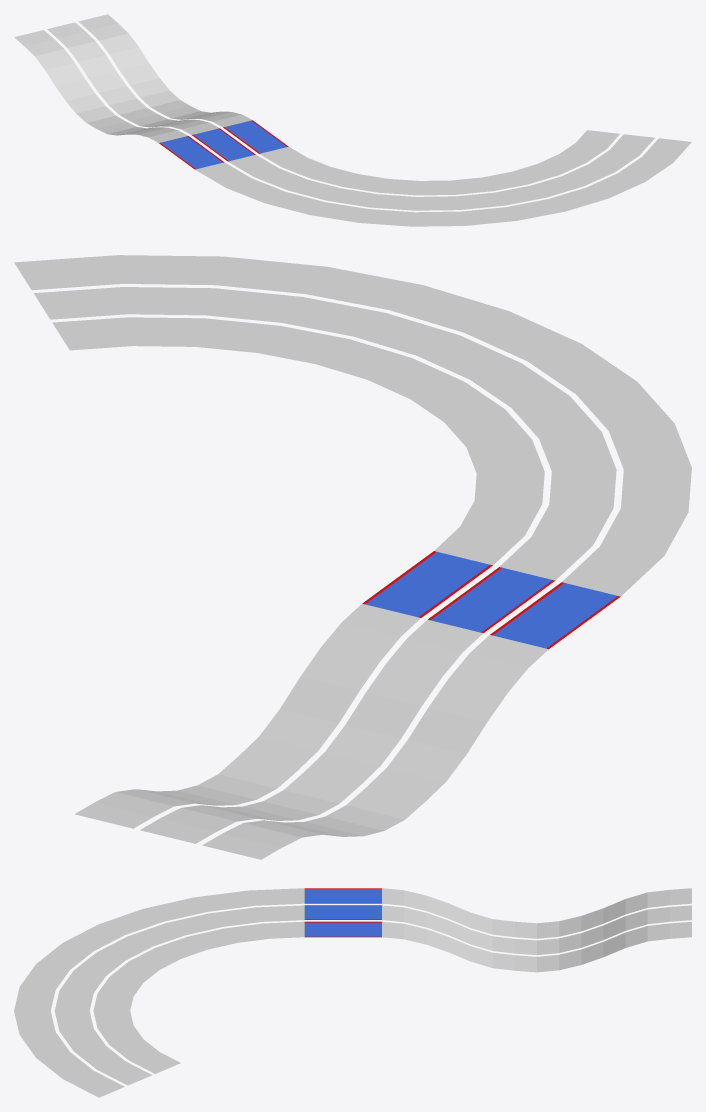
The model's file is Road_straight.fbx.
The picture shows the model from 3 angles, top to bottom: view 1: azimuth 30°, elevation 25°; view 2: azimuth 150°, elevation 25°; view 3: azimuth 270°, elevation 25°; orthographic projection. The views are drawn at different scales.
Parts seen in each view (by area): view 1: Road_90, Road_plus2, Road_45, Road_minus2, Road_straight; view 2: Road_90, Road_minus2, Road_45, Road_plus2, Road_straight; view 3: Road_90, Road_45, Road_minus2, Road_plus2, Road_straight.
Part boxes in pixels (left/top/right/bottom): Road_90: left=195, top=146, right=564, bottom=226; Road_plus2: left=14, top=14, right=179, bottom=122; Road_45: left=511, top=130, right=691, bottom=211; Road_minus2: left=87, top=100, right=252, bottom=142; Road_straight: left=159, top=120, right=288, bottom=169; Road_90: left=316, top=285, right=691, bottom=596; Road_minus2: left=218, top=603, right=548, bottom=819; Road_45: left=14, top=255, right=422, bottom=363; Road_plus2: left=75, top=774, right=404, bottom=859; Road_straight: left=362, top=551, right=620, bottom=649; Road_90: left=14, top=888, right=304, bottom=1010; Road_45: left=14, top=1011, right=180, bottom=1097; Road_minus2: left=382, top=888, right=536, bottom=972; Road_plus2: left=537, top=888, right=691, bottom=972; Road_straight: left=304, top=888, right=381, bottom=937.
Bounding box in the file's own units: 2561 × 200 × 3500.
